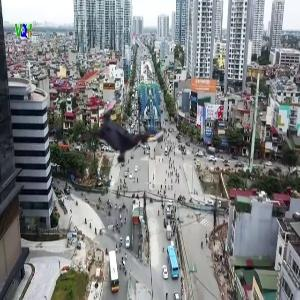drone: (82, 96, 162, 176)
